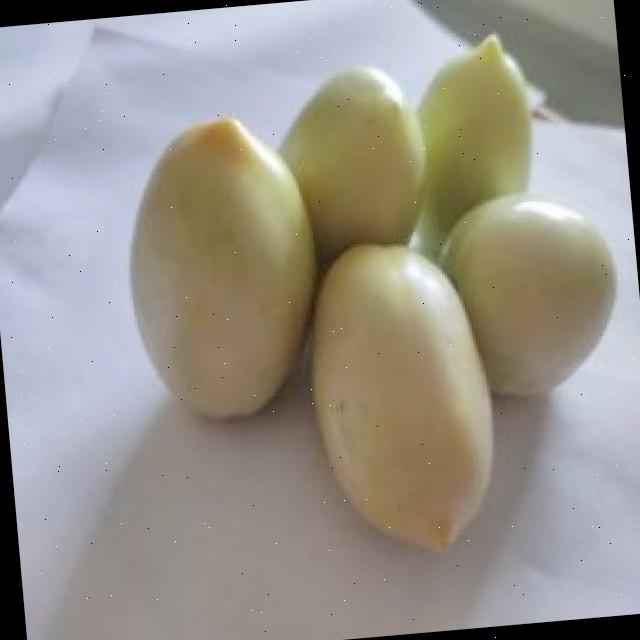tomato: (117, 108, 326, 426), (308, 243, 498, 555), (432, 189, 621, 398), (277, 66, 429, 257), (412, 33, 533, 255)
